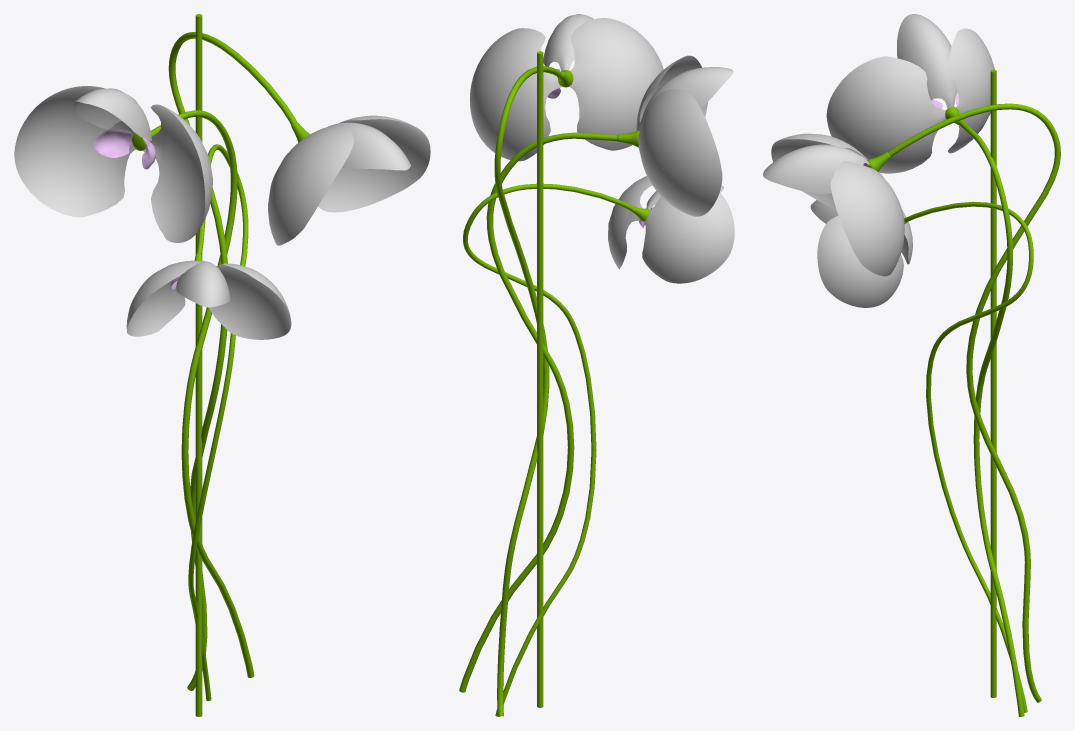
The model's file is mq_orquidea_26.glb.
3 views of the same model, side by side, from view 1: azimuth 30°, elevation 25°; view 2: azimuth 150°, elevation 25°; view 3: azimuth 270°, elevation 25° (orthographic). The views are drawn at different scales.
Parts seen in each view (by area): view 1: orchids_2, orchidStem, stick, orchidsInner; view 2: orchids_2, orchidStem, stick; view 3: orchids_2, orchidStem, stick.
Part boxes in pixels (x1=…): orchids_2: x1=14, y1=86, x2=430, y2=339; orchidStem: x1=132, y1=32, x2=310, y2=700; stick: x1=195, y1=14, x2=202, y2=716; orchidsInner: x1=93, y1=129, x2=180, y2=289; orchids_2: x1=470, y1=14, x2=734, y2=283; orchidStem: x1=459, y1=66, x2=648, y2=716; stick: x1=537, y1=51, x2=543, y2=707; orchids_2: x1=763, y1=14, x2=994, y2=307; orchidStem: x1=867, y1=103, x2=1060, y2=716; stick: x1=990, y1=69, x2=996, y2=697.
Size of the model in its own units: 202 by 399 by 171.
